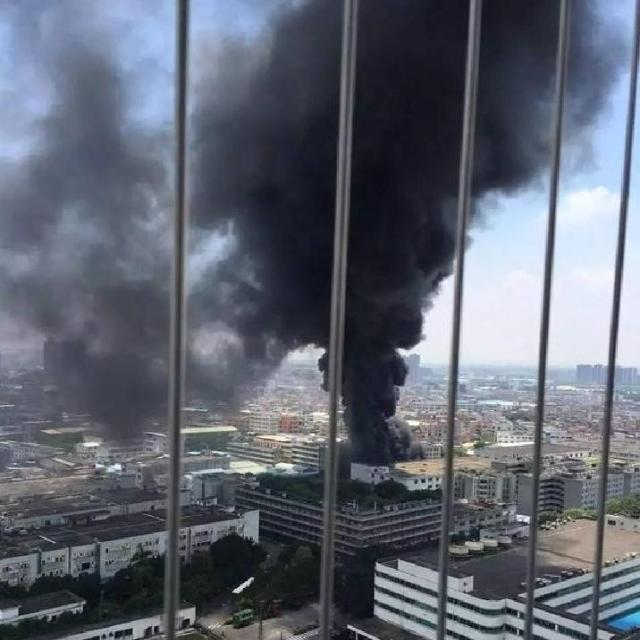Smoke: (1, 1, 632, 464)
